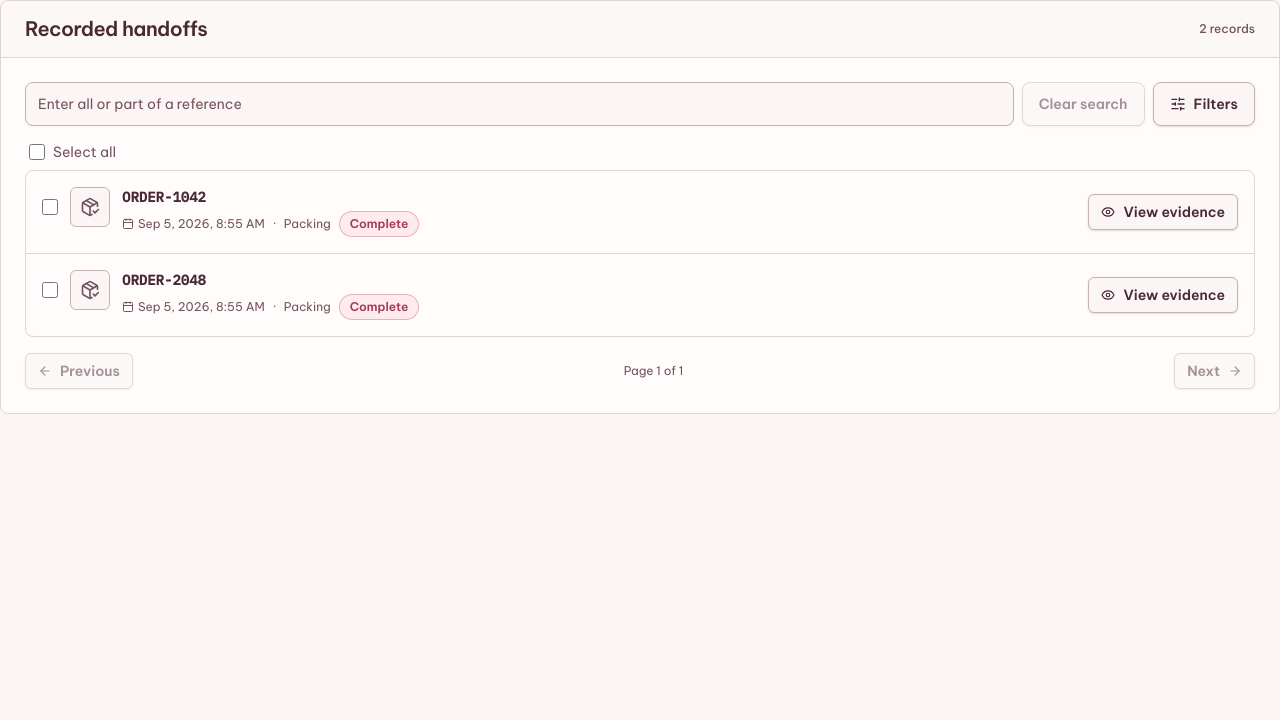
Test: RecorderHistory › selects every deletable record at once and reports partial bulk failures
Expected: the text "ORDER-1042" is shown, [122,188,206,206]
Click the checkbox labelled "Select all". click: (37, 152)
box: [29,144,45,160]
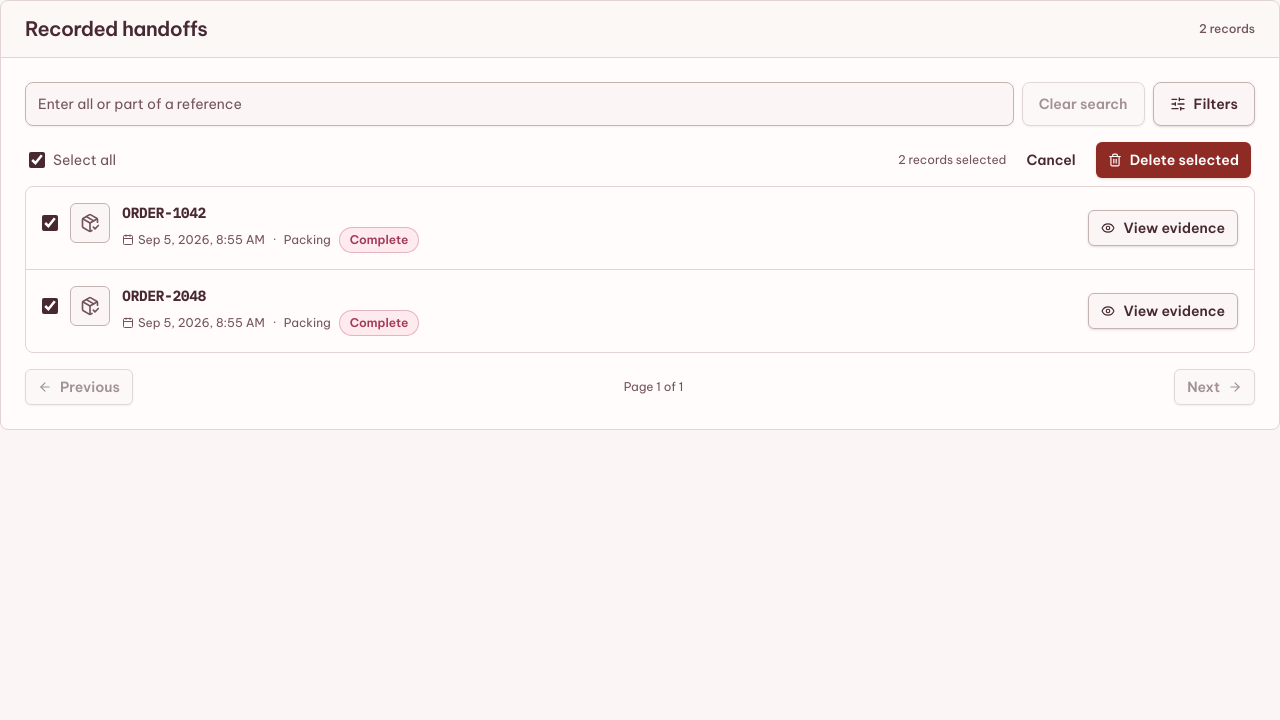
Now the text "2 records selected" is shown, box [898,152,1006,168]
Click the button "Delete selected". click: (1173, 160)
box: [1096,142,1251,178]
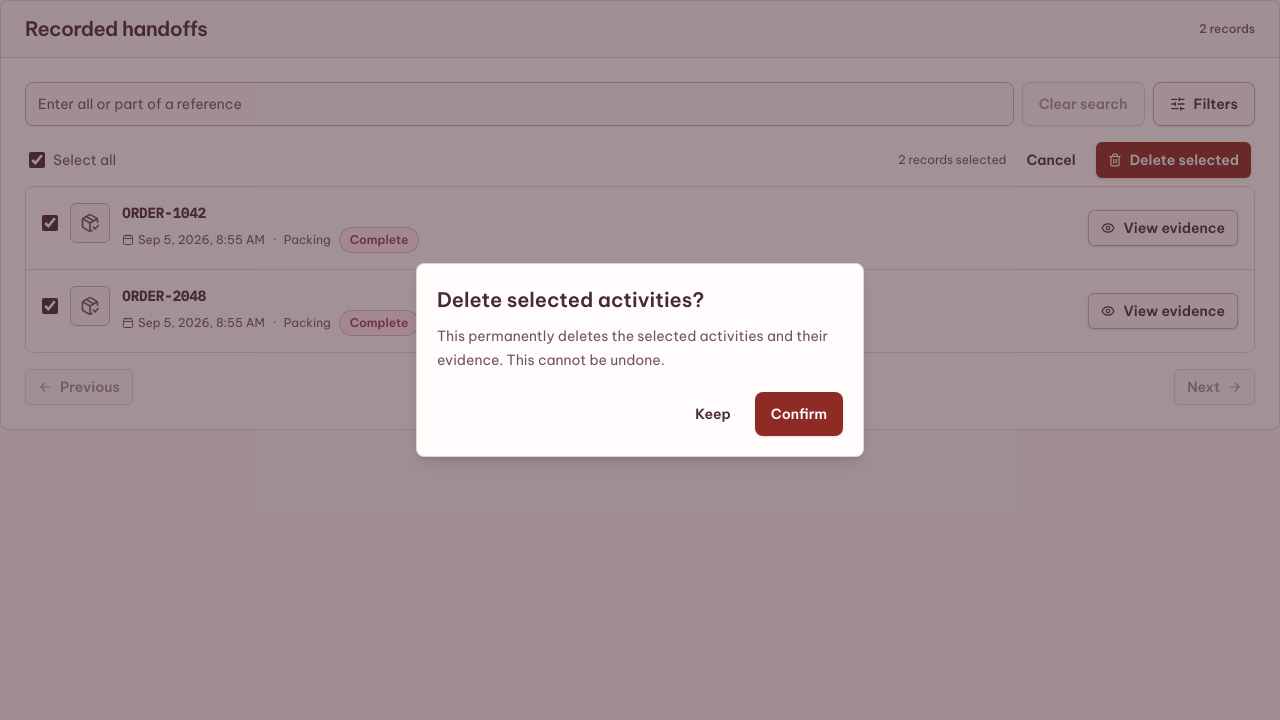
Click the button "Confirm". click: (799, 414)
box: [755,392,843,436]
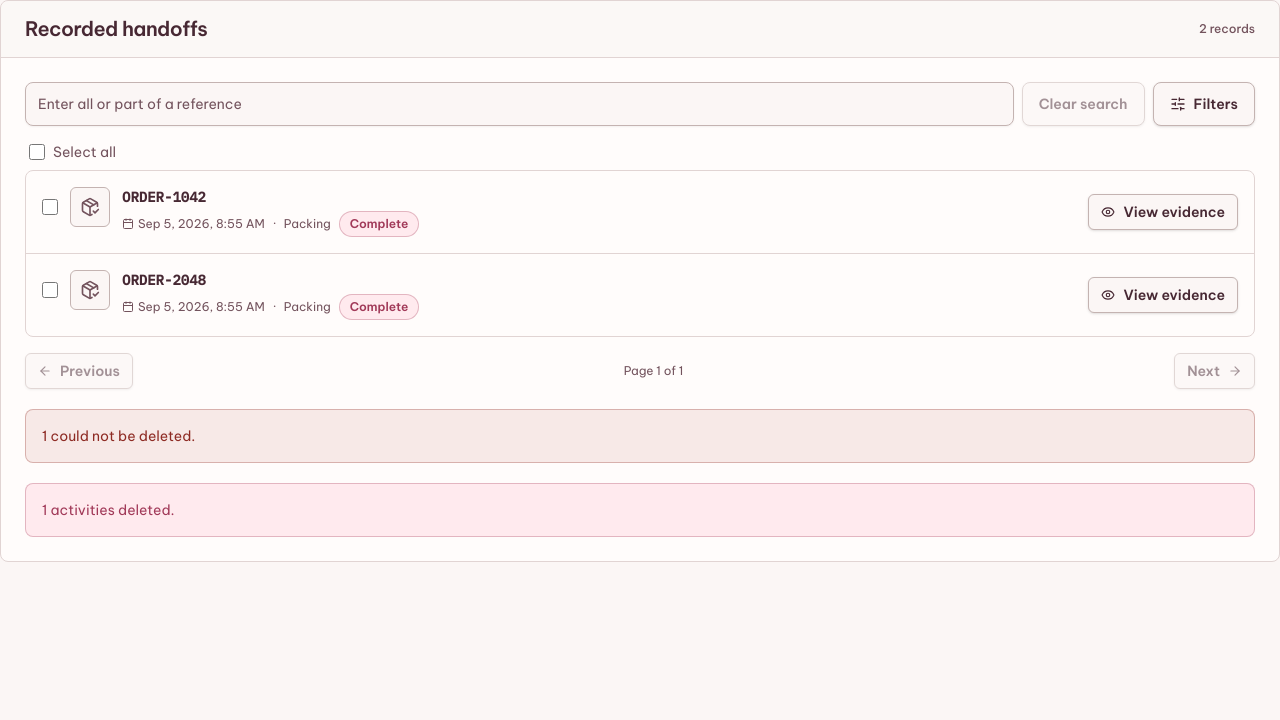
Now the text "1 activities deleted." is shown, box [25,483,1255,537]
Now the message "1 could not be deleted." is shown, box [25,409,1255,463]
